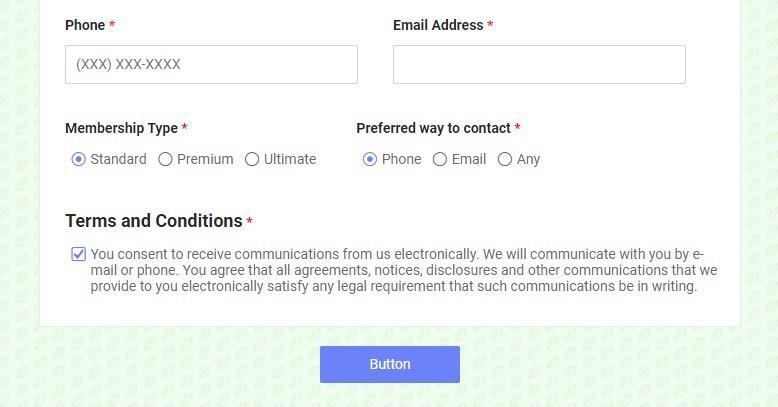button: (321, 346, 461, 385)
input: (392, 44, 688, 88), (65, 45, 360, 87)
label: (59, 210, 262, 235), (351, 118, 528, 141), (60, 120, 192, 141), (386, 15, 499, 38), (60, 16, 122, 39), (90, 152, 149, 169), (177, 152, 235, 168), (265, 153, 320, 168), (381, 151, 423, 168), (452, 152, 490, 169), (517, 154, 546, 169)
radio: (65, 146, 91, 172), (492, 150, 517, 170), (429, 150, 452, 170), (156, 150, 176, 170), (360, 153, 381, 169), (245, 151, 262, 168)
